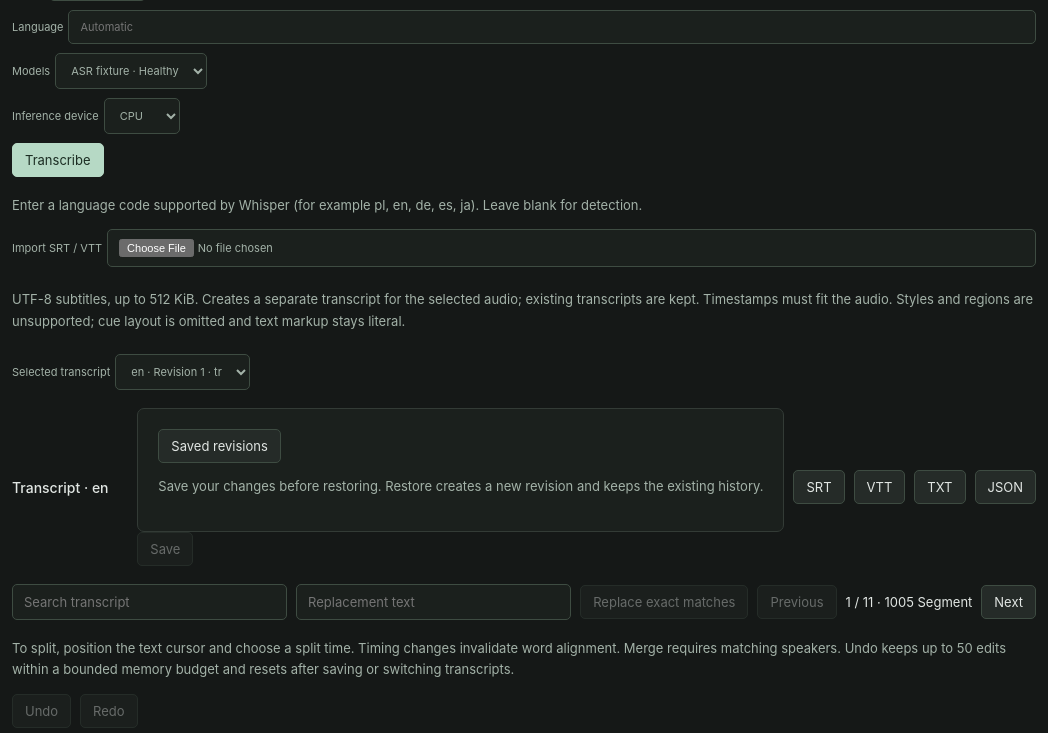
Test: bounds transcript rendering and searches across all segments
Type "Sentence 1004" into the field labelled "Search transcript". click: (150, 602)
box: [12,584,287,620]
(page scrolled)
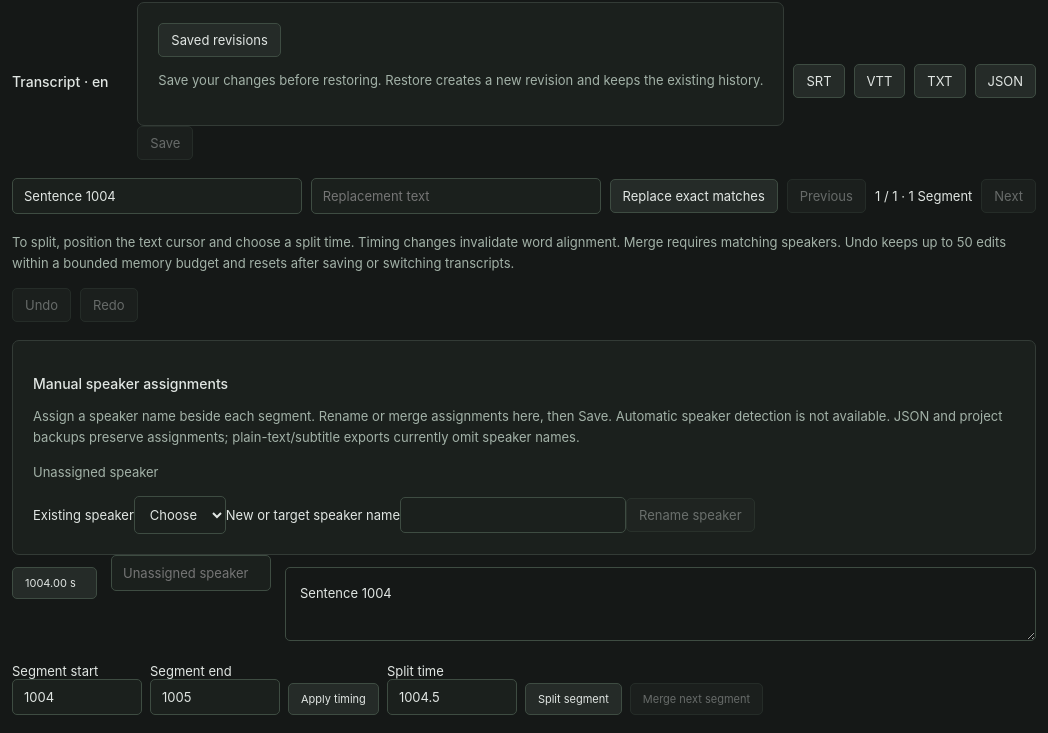
Check: the number of text boxes named "Segment " is 1, box [285,567,1036,641]
Check: the text box named "Segment 1005" holds "Sentence 1004", box [285,567,1036,641]
